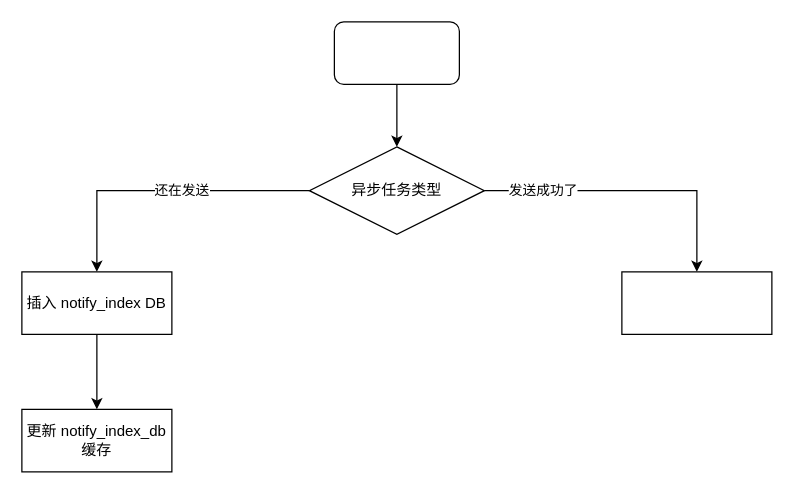
The diagram is 794 pixels wide and 494 high, and some of its shapes have lost their labels. Each missing label, with the box of its shape:
异步任务: (333, 21, 459, 84)
更新站内信任务状态为 已发送 状态: (621, 271, 772, 334)
